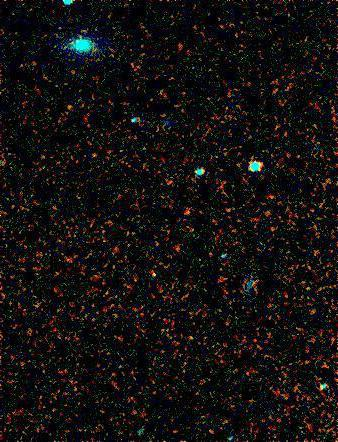star: (139, 261, 169, 291)
